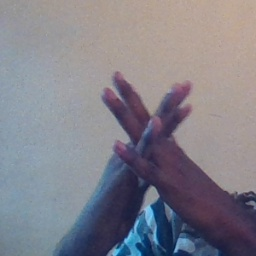W: (85, 59, 215, 226)
